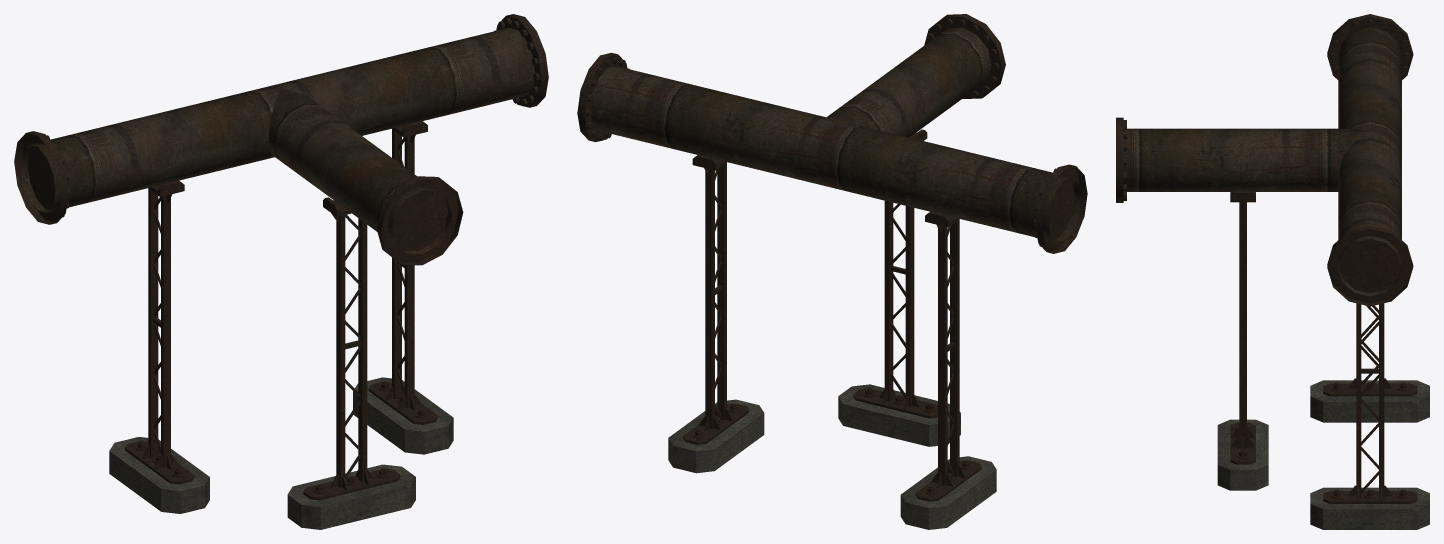
File: pipe_cx_4.obj
3 views of the same model, side by side, from view 1: azimuth 30°, elevation 25°; view 2: azimuth 150°, elevation 25°; view 3: azimuth 270°, elevation 25° (orthographic). The views are drawn at different scales.
Visible parts, largest first — view 1: pipe_cx_4; view 2: pipe_cx_4; view 3: pipe_cx_4.
Part boxes in pixels (bbox=[...]): pipe_cx_4: bbox=[14, 14, 548, 529]; pipe_cx_4: bbox=[577, 14, 1087, 529]; pipe_cx_4: bbox=[1116, 14, 1429, 529].
Size of the model in its own units: 4 by 2.99 by 2.47.
